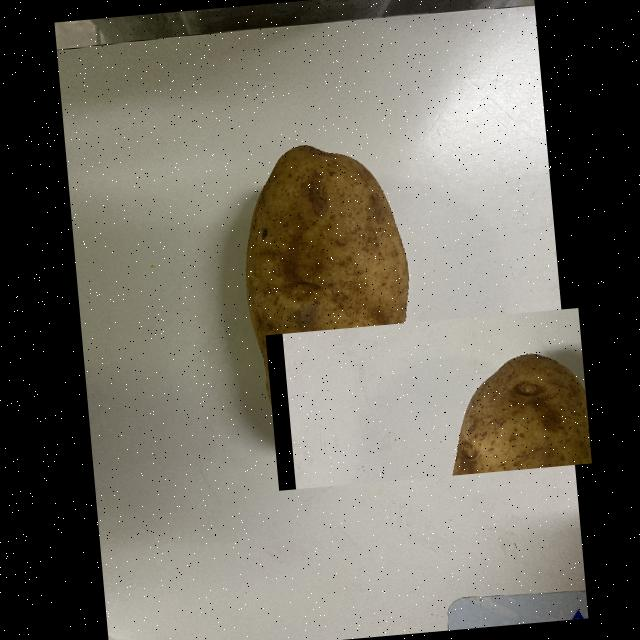Diseased-fungal potato: (264, 307, 590, 491)
